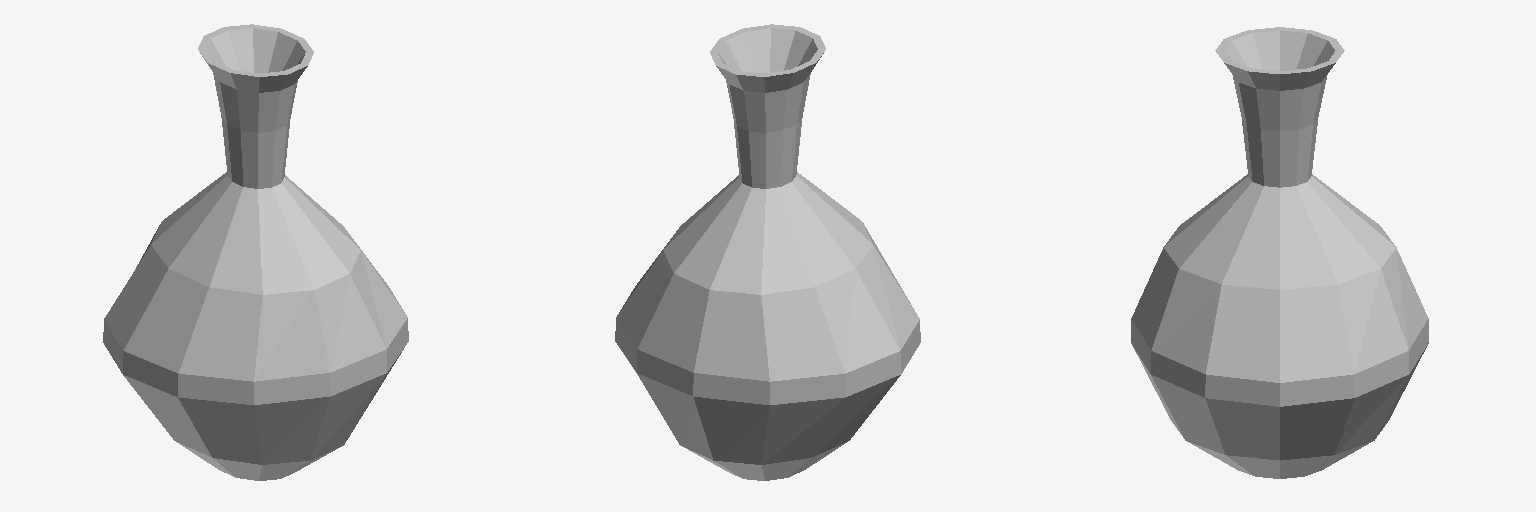
The model's file is Asset_vase_long_02.obj.
The picture shows the model from 3 angles: view 1: azimuth 30°, elevation 25°; view 2: azimuth 150°, elevation 25°; view 3: azimuth 270°, elevation 25°; orthographic projection.
Parts seen in each view (by area): view 1: Vase_long_02; view 2: Vase_long_02; view 3: Vase_long_02.
Boxes of the visible parts, <box> form: Vase_long_02: <box>103,24,408,480</box>; Vase_long_02: <box>615,24,920,480</box>; Vase_long_02: <box>1131,27,1428,478</box>.
Bounding box in the file's own units: 238 × 350 × 231.